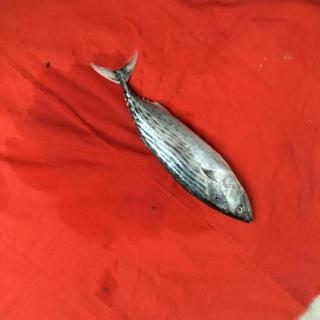Ikan: (90, 51, 268, 235)
